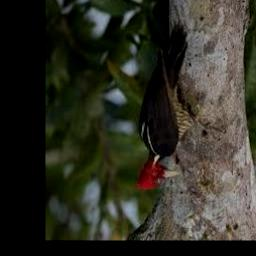Woodpecker: (136, 24, 223, 191)
